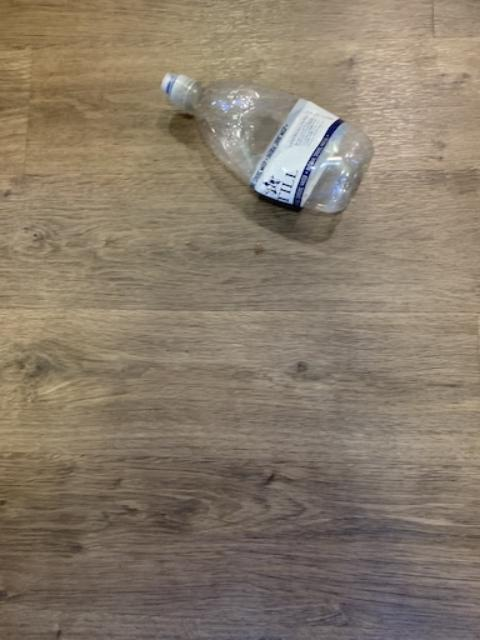plastic: (160, 72, 370, 210)
